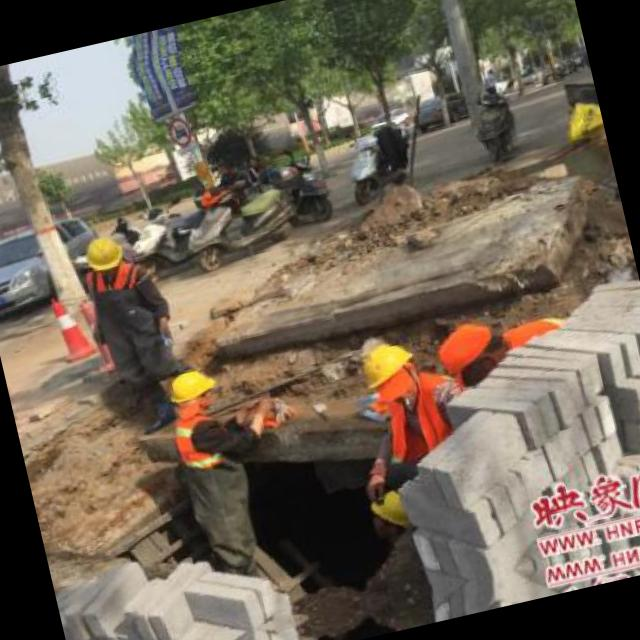helmet: (359, 334, 424, 405), (166, 363, 221, 411), (80, 231, 124, 275)
